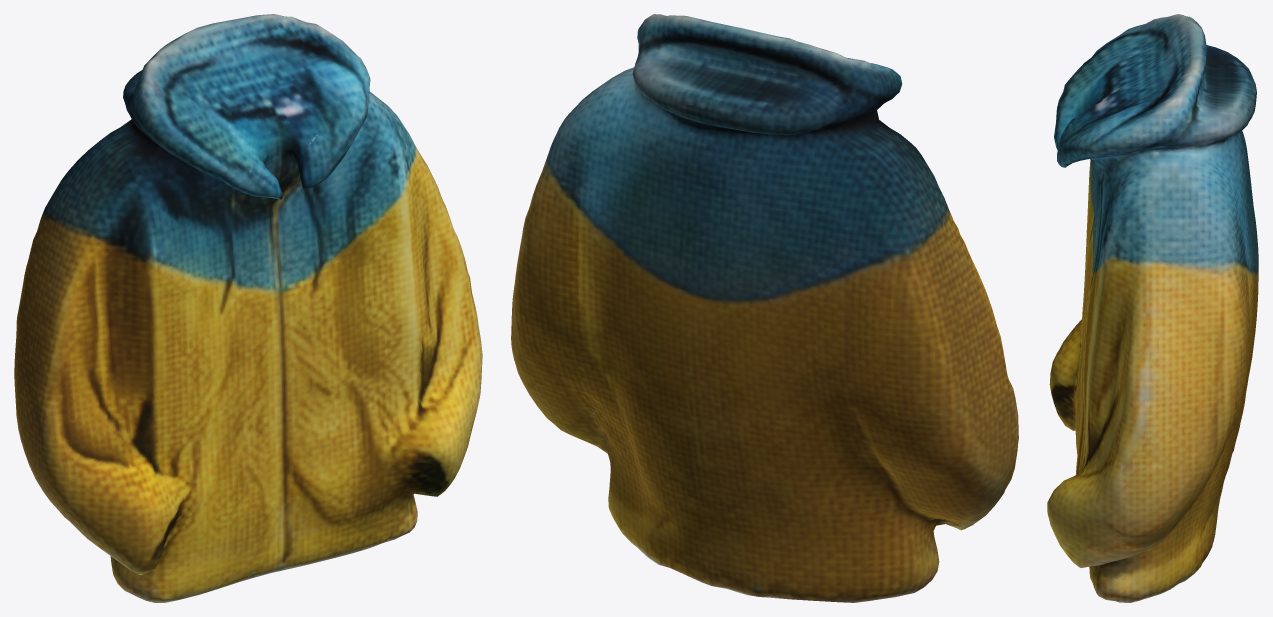
The model's file is camperax7.glb.
3 renders of one model, left to right at view 1: azimuth 30°, elevation 25°; view 2: azimuth 150°, elevation 25°; view 3: azimuth 270°, elevation 25°, orthographic. The views are drawn at different scales.
Parts seen in each view (by area): view 1: mesh; view 2: mesh; view 3: mesh.
Boxes of the visible parts, x1=… form: mesh: x1=14, y1=14, x2=482, y2=602; mesh: x1=511, y1=14, x2=1018, y2=602; mesh: x1=1047, y1=14, x2=1258, y2=602.
Bounding box in the file's own units: 1.57 × 1.76 × 0.6749.
Materials: 1 (1 with a texture image).
